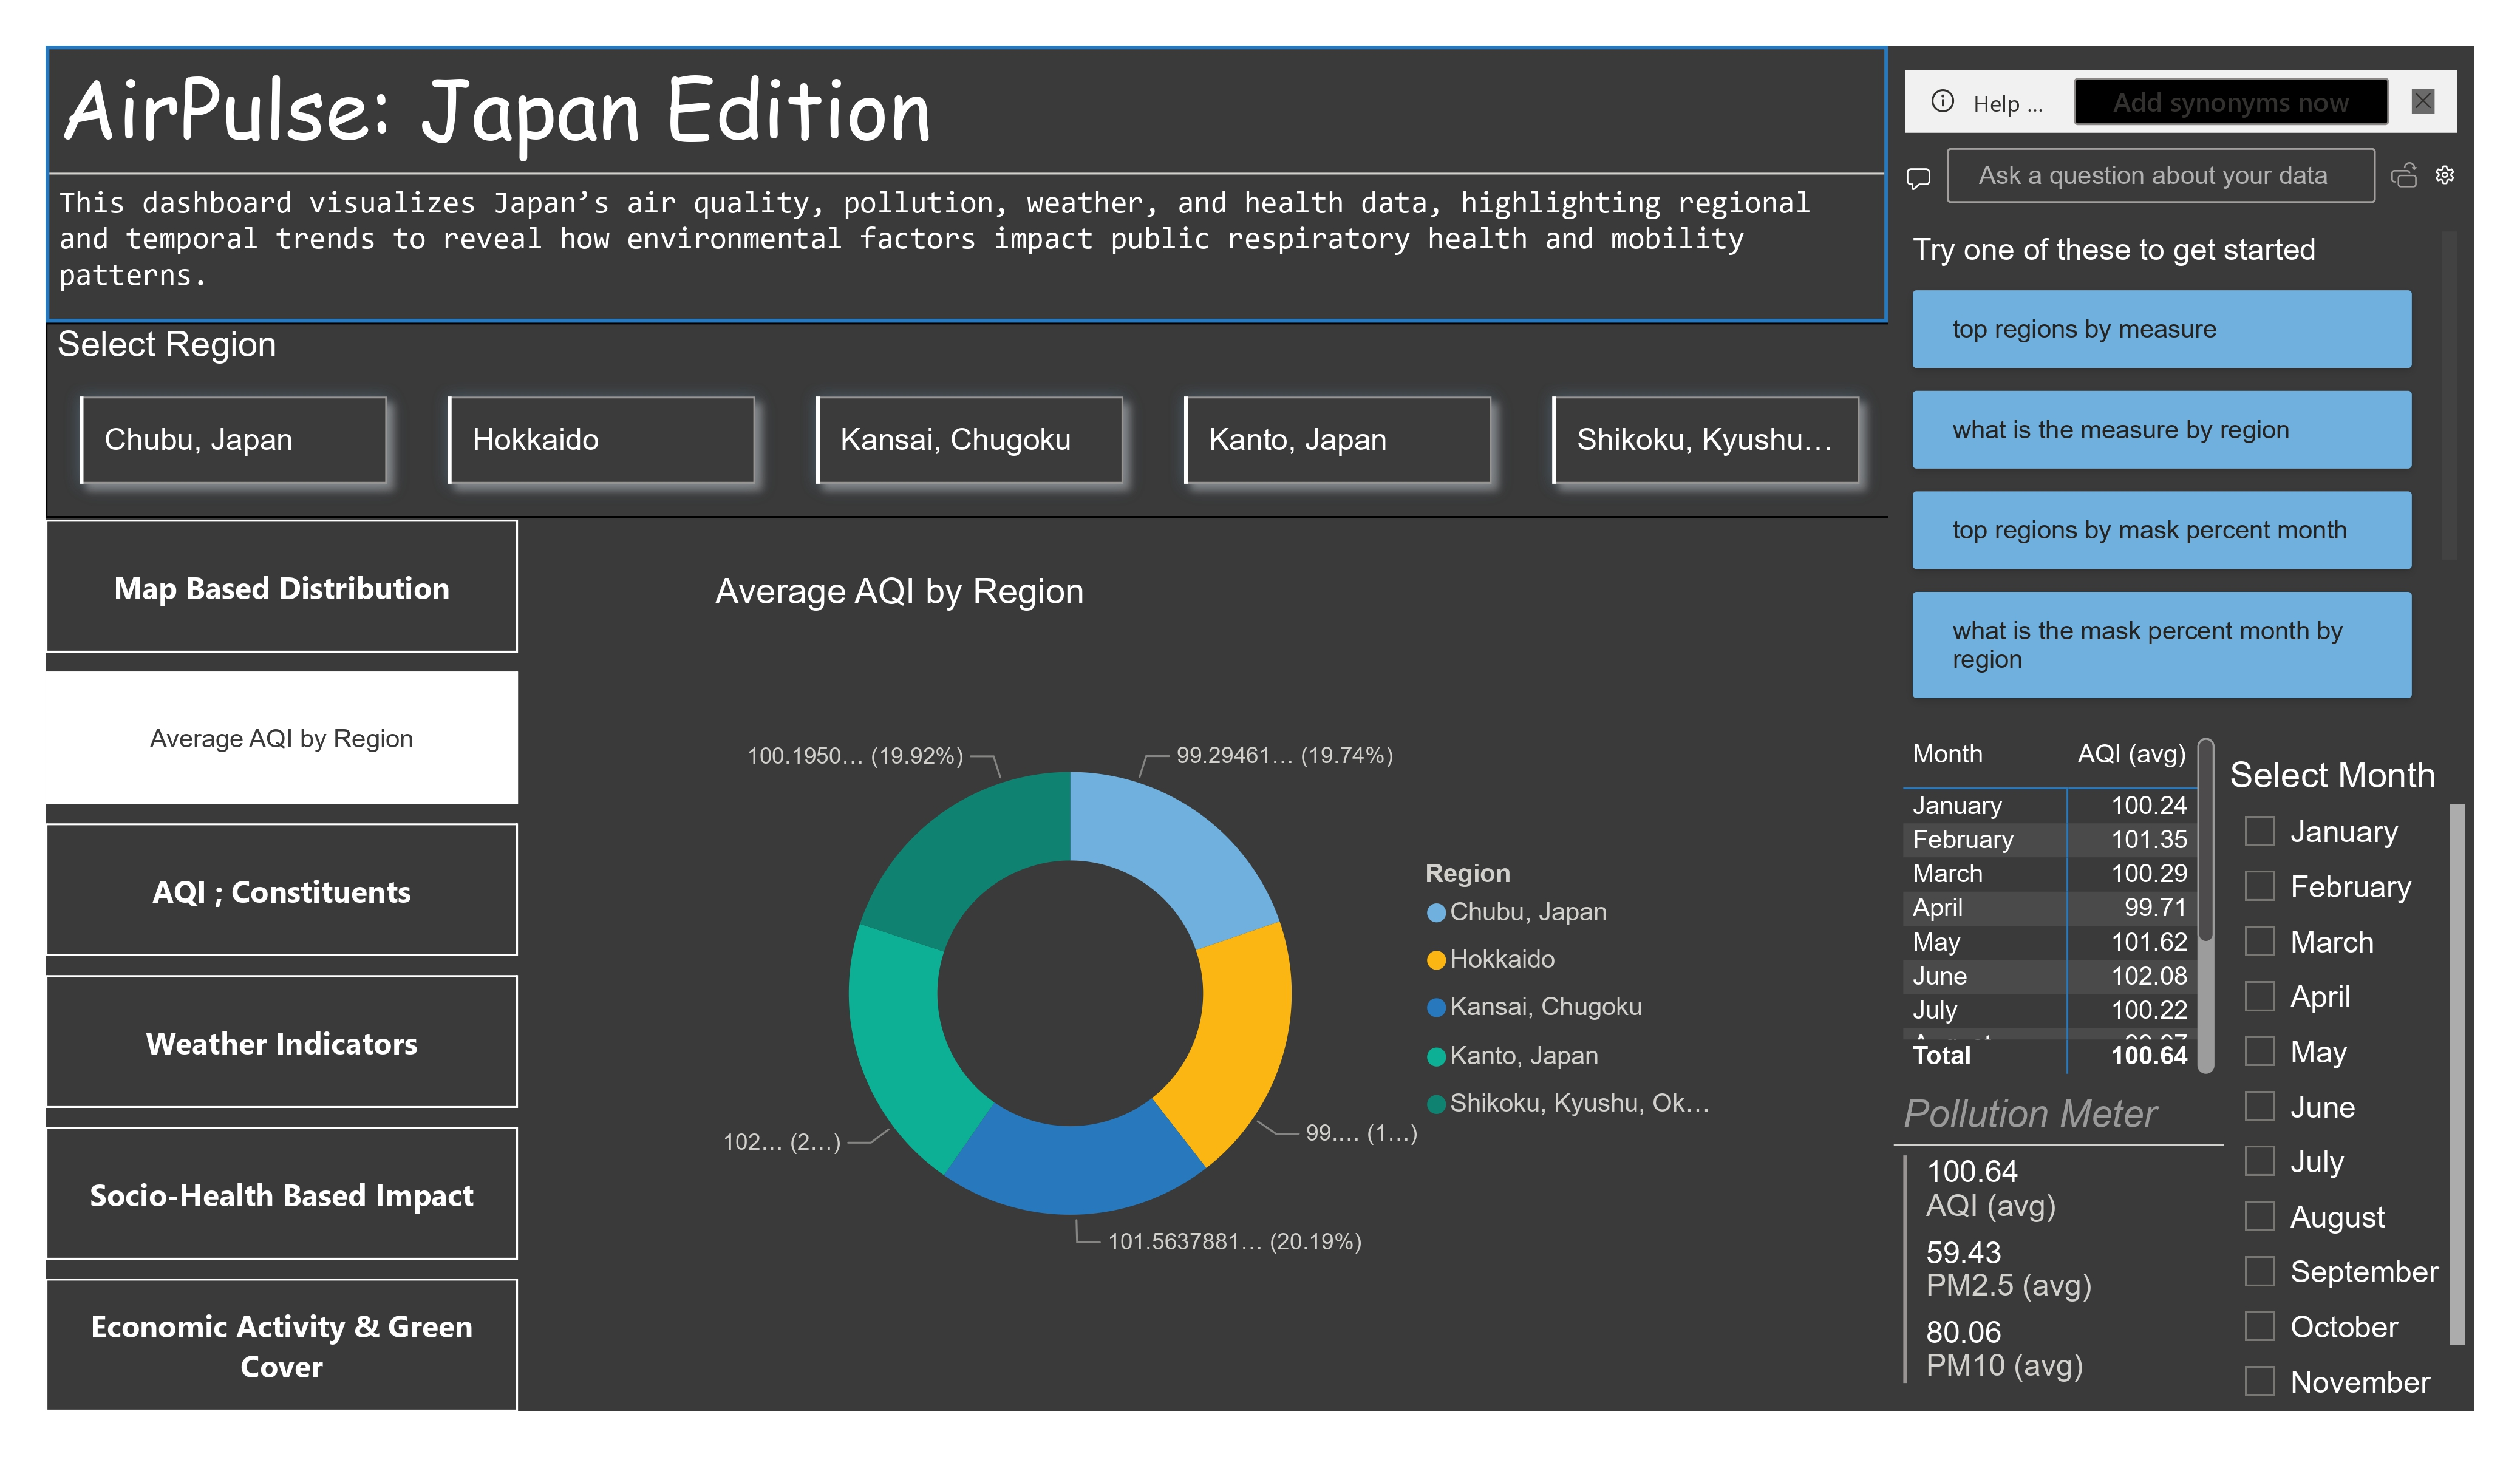

This screenshot's page, from the dashboard's own definition file:
{"tool":"powerbi","page":{"name":"Average AQI by Region","canvas":[1280,720],"ordinal":1},"visuals":[{"type":"donutChart","fields":{"Series":["air_quality_health_dataset.Region"],"Y":["Avg(air_quality_health_dataset.AQI)"]},"box":[347.8,276.9,545.4,424.3],"z":0},{"type":"advancedSlicerVisual","title":"Select Region","fields":{"Values":["air_quality_health_dataset.Region"]},"box":[0,145.7,974.3,102.9],"z":1000},{"type":"slicer","title":"Select Month","fields":{"Values":["air_quality_health_dataset.Date.Variation.Date Hierarchy.Month"]},"box":[1145.7,374.3,134.3,345.7],"z":2000},{"type":"qnaVisual","box":[971.4,0,308.6,360],"z":3000},{"type":"textbox","title":"AirPulse: Japan Edition","box":[0,0,971.1,146.1],"z":4000},{"type":"multiRowCard","title":"Pollution Meter","fields":{"Values":["Avg(air_quality_health_dataset.AQI)","Avg(air_quality_health_dataset.PM2.5)","Avg(air_quality_health_dataset.PM10)"]},"box":[973.9,551.7,173.9,168.3],"z":5000},{"type":"pivotTable","fields":{"Values":["Avg(air_quality_health_dataset.AQI)"],"Rows":["air_quality_health_dataset.Date.Variation.Date Hierarchy.Month"]},"box":[973.9,360.3,173.9,186.4],"z":6000},{"type":"bookmarkNavigator","box":[0,250.1,249.1,469.9],"z":8000}]}

Visuals, with their boxes on the page's 1280x720 design canvas (x1, y1, x2, y2). These are canvas units, not pixel positions in the 2520x1457 screenshot, which may show the page scaled, cropped or inside an application window:
donutChart - air_quality_health_dataset.Region x Avg(air_quality_health_dataset.AQI): 348, 277, 893, 701
"Select Region" advancedSlicerVisual: 0, 146, 974, 249
"Select Month" slicer: 1146, 374, 1280, 720
qnaVisual: 971, 0, 1280, 360
"AirPulse: Japan Edition" textbox: 0, 0, 971, 146
"Pollution Meter" multiRowCard: 974, 552, 1148, 720
pivotTable - Avg(air_quality_health_dataset.AQI) x air_quality_health_dataset.Date.Variation.Date Hierarchy.Month: 974, 360, 1148, 547
bookmarkNavigator: 0, 250, 249, 720
